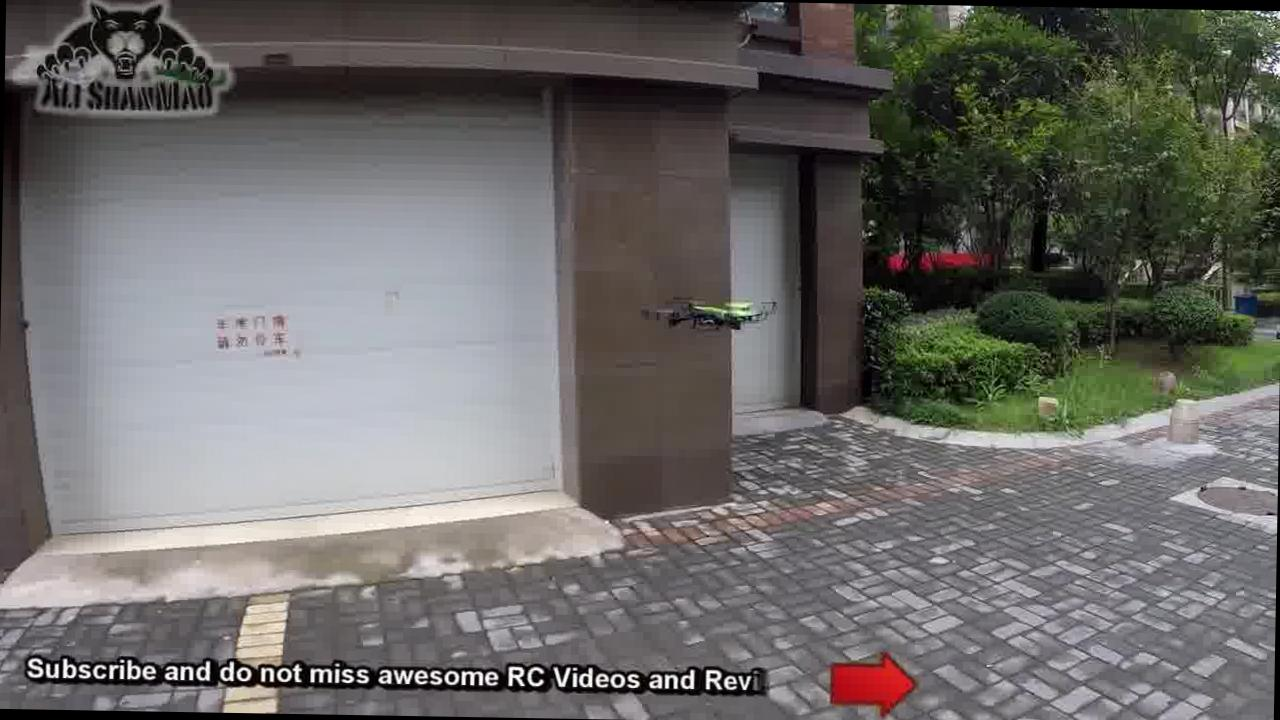drone: (640, 276, 782, 337)
